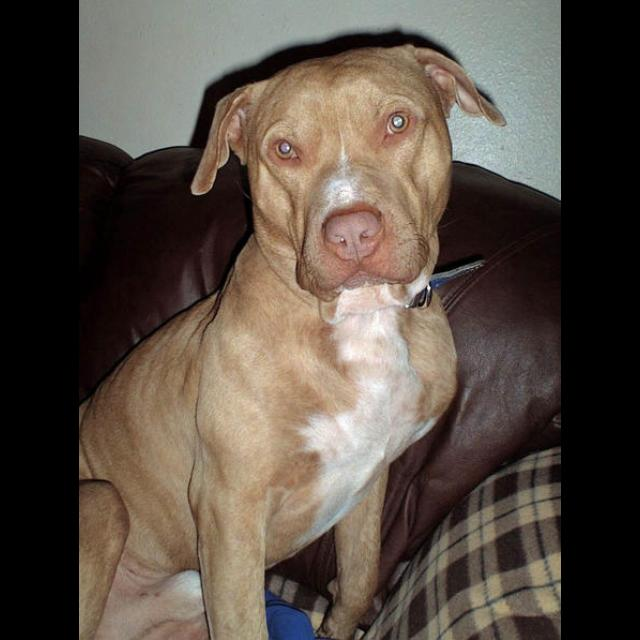am_pit_bull_terrier: (81, 43, 508, 640)
